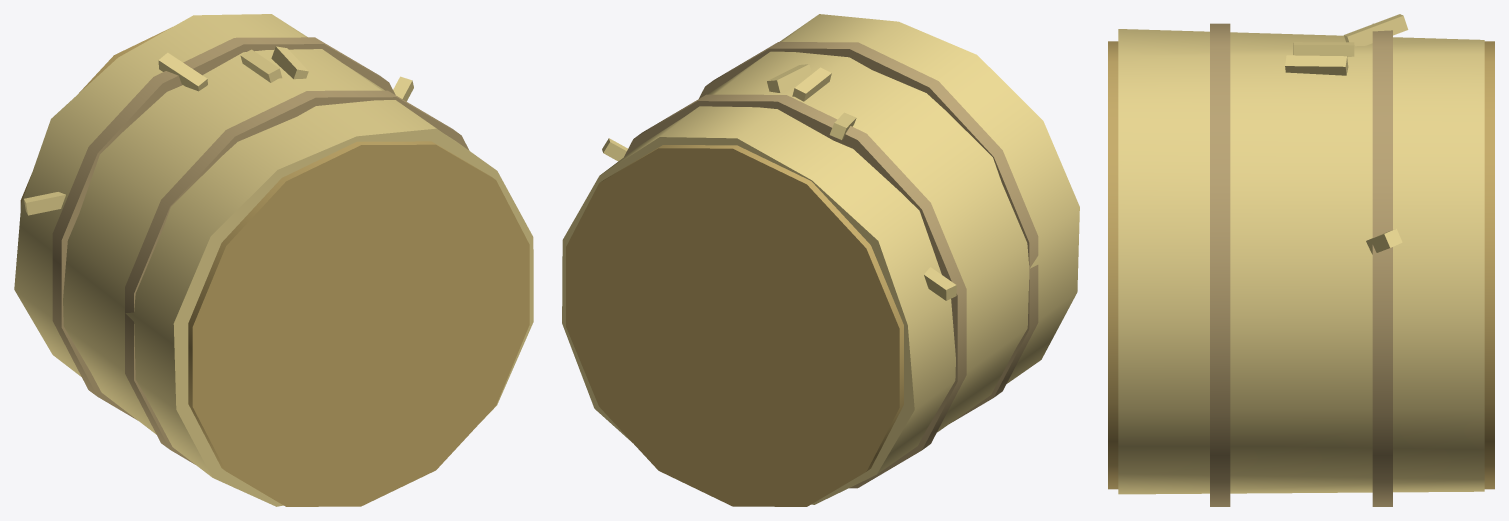
The model's file is hearthvale_hay_bale.glb.
3 renders of one model, left to right at view 1: azimuth 30°, elevation 25°; view 2: azimuth 150°, elevation 25°; view 3: azimuth 270°, elevation 25°, orthographic. The views are drawn at different scales.
Parts seen in each view (by area): view 1: hv_hay_bale; view 2: hv_hay_bale; view 3: hv_hay_bale.
Part boxes in pixels (x1,y1,x2,y2): hv_hay_bale: (14, 14, 533, 506); hv_hay_bale: (562, 14, 1079, 506); hv_hay_bale: (1108, 14, 1494, 506).
Bounding box in the file's own units: 0.9585 × 0.954 × 0.76.
